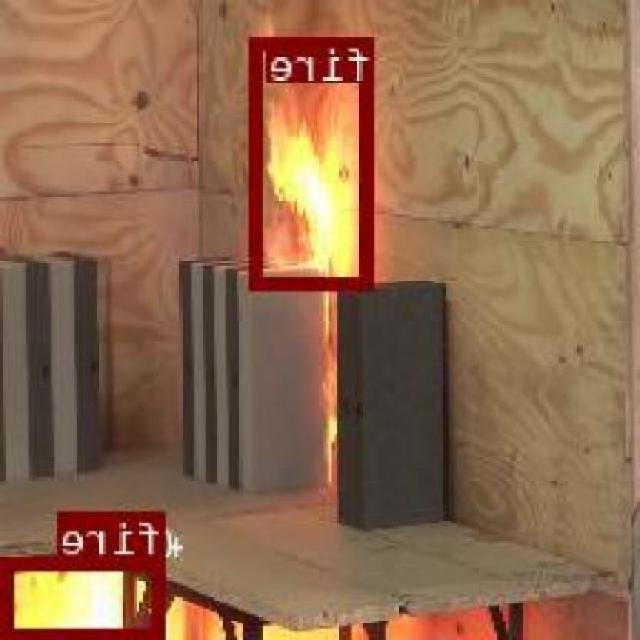Fire: (255, 35, 376, 288), (5, 556, 167, 638)
